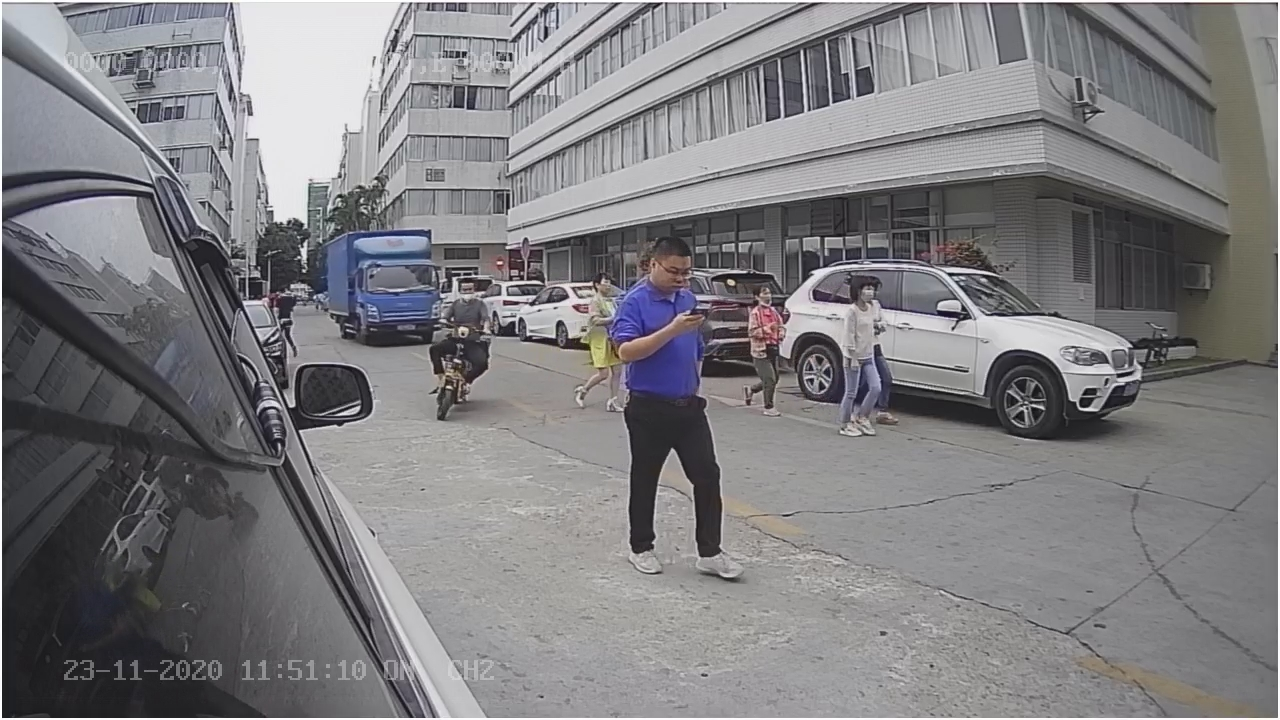person: (606, 237, 750, 587), (435, 270, 493, 325)
